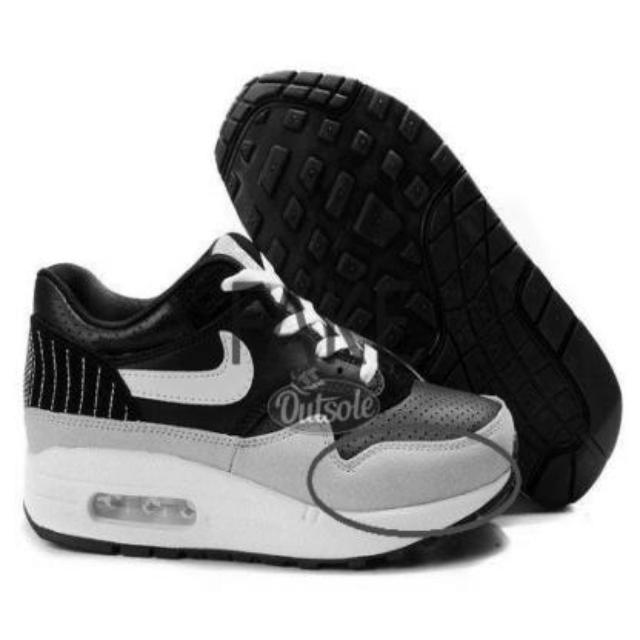NIKE_fake: (96, 319, 262, 437)
